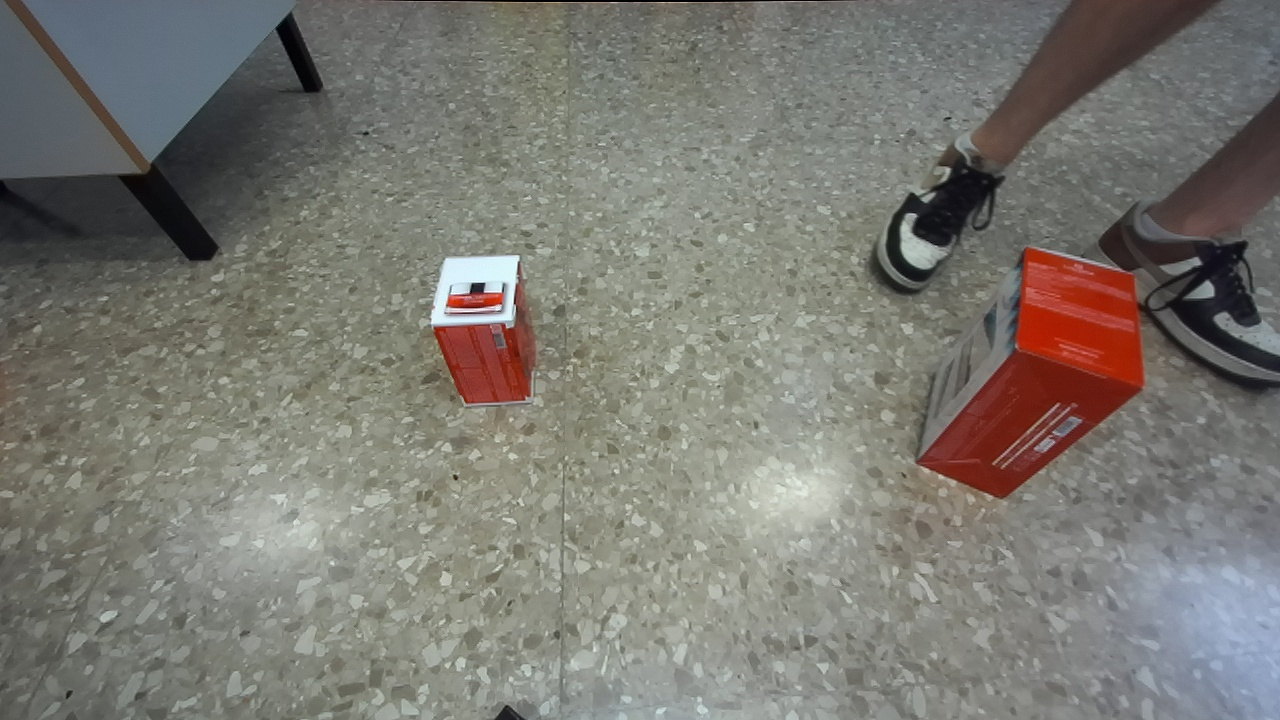caja_busbar: (916, 247, 1142, 496)
caja_potencia: (430, 255, 536, 404)
